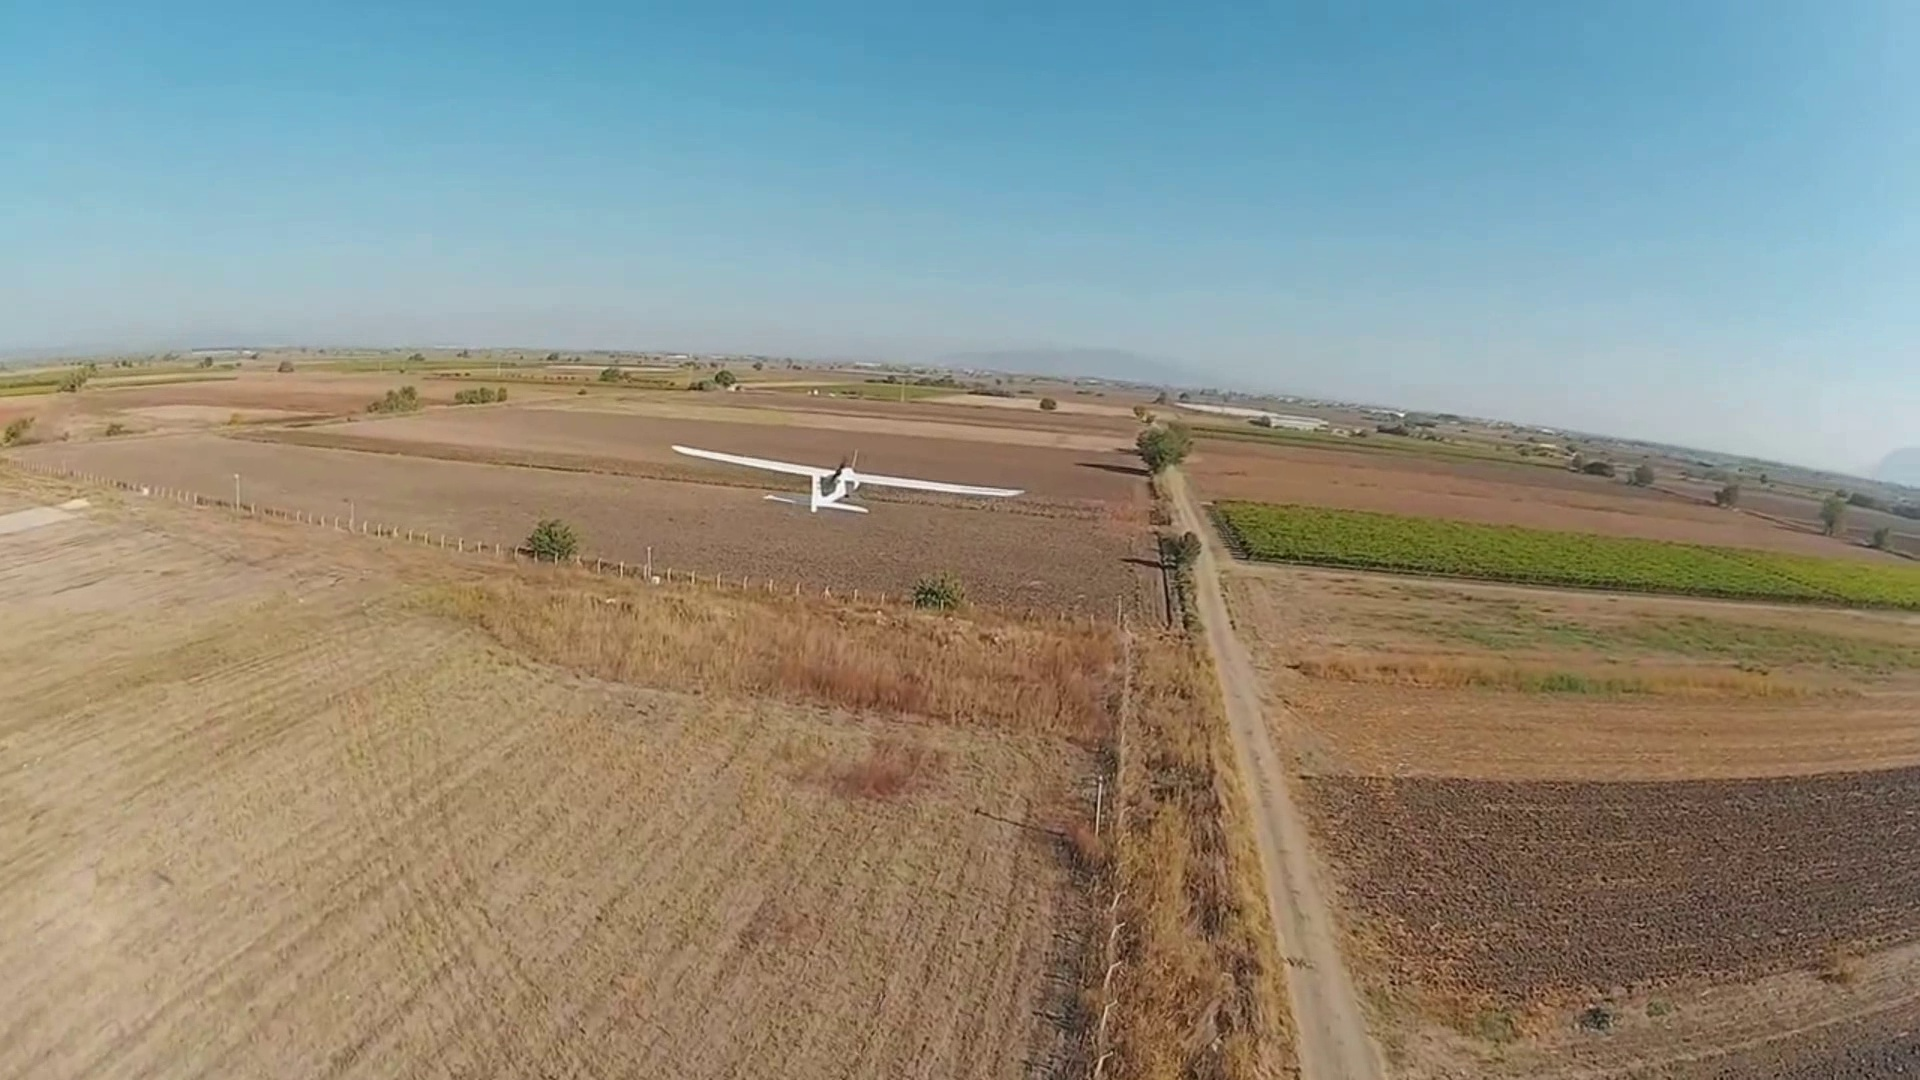airplane: (671, 437, 1026, 517)
